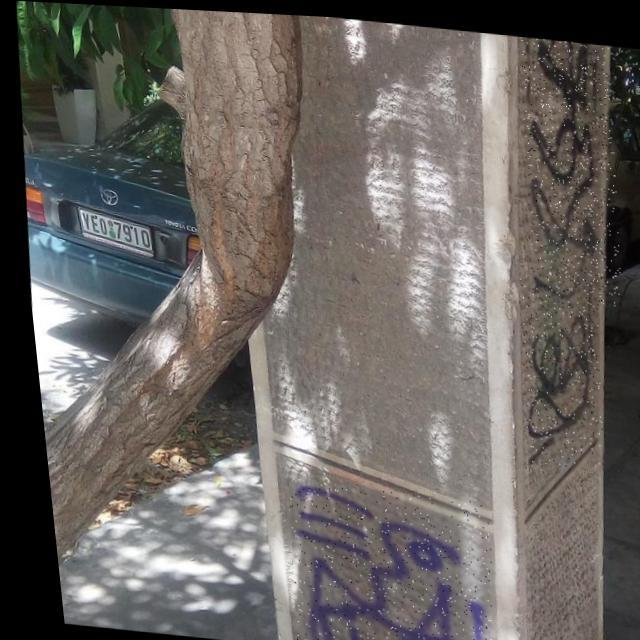-: (270, 478, 490, 640), (506, 30, 630, 302), (504, 272, 606, 466)
